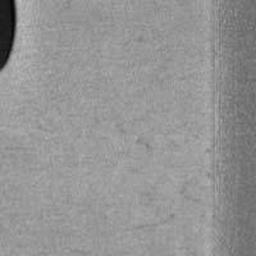Punching: (0, 0, 17, 70)
